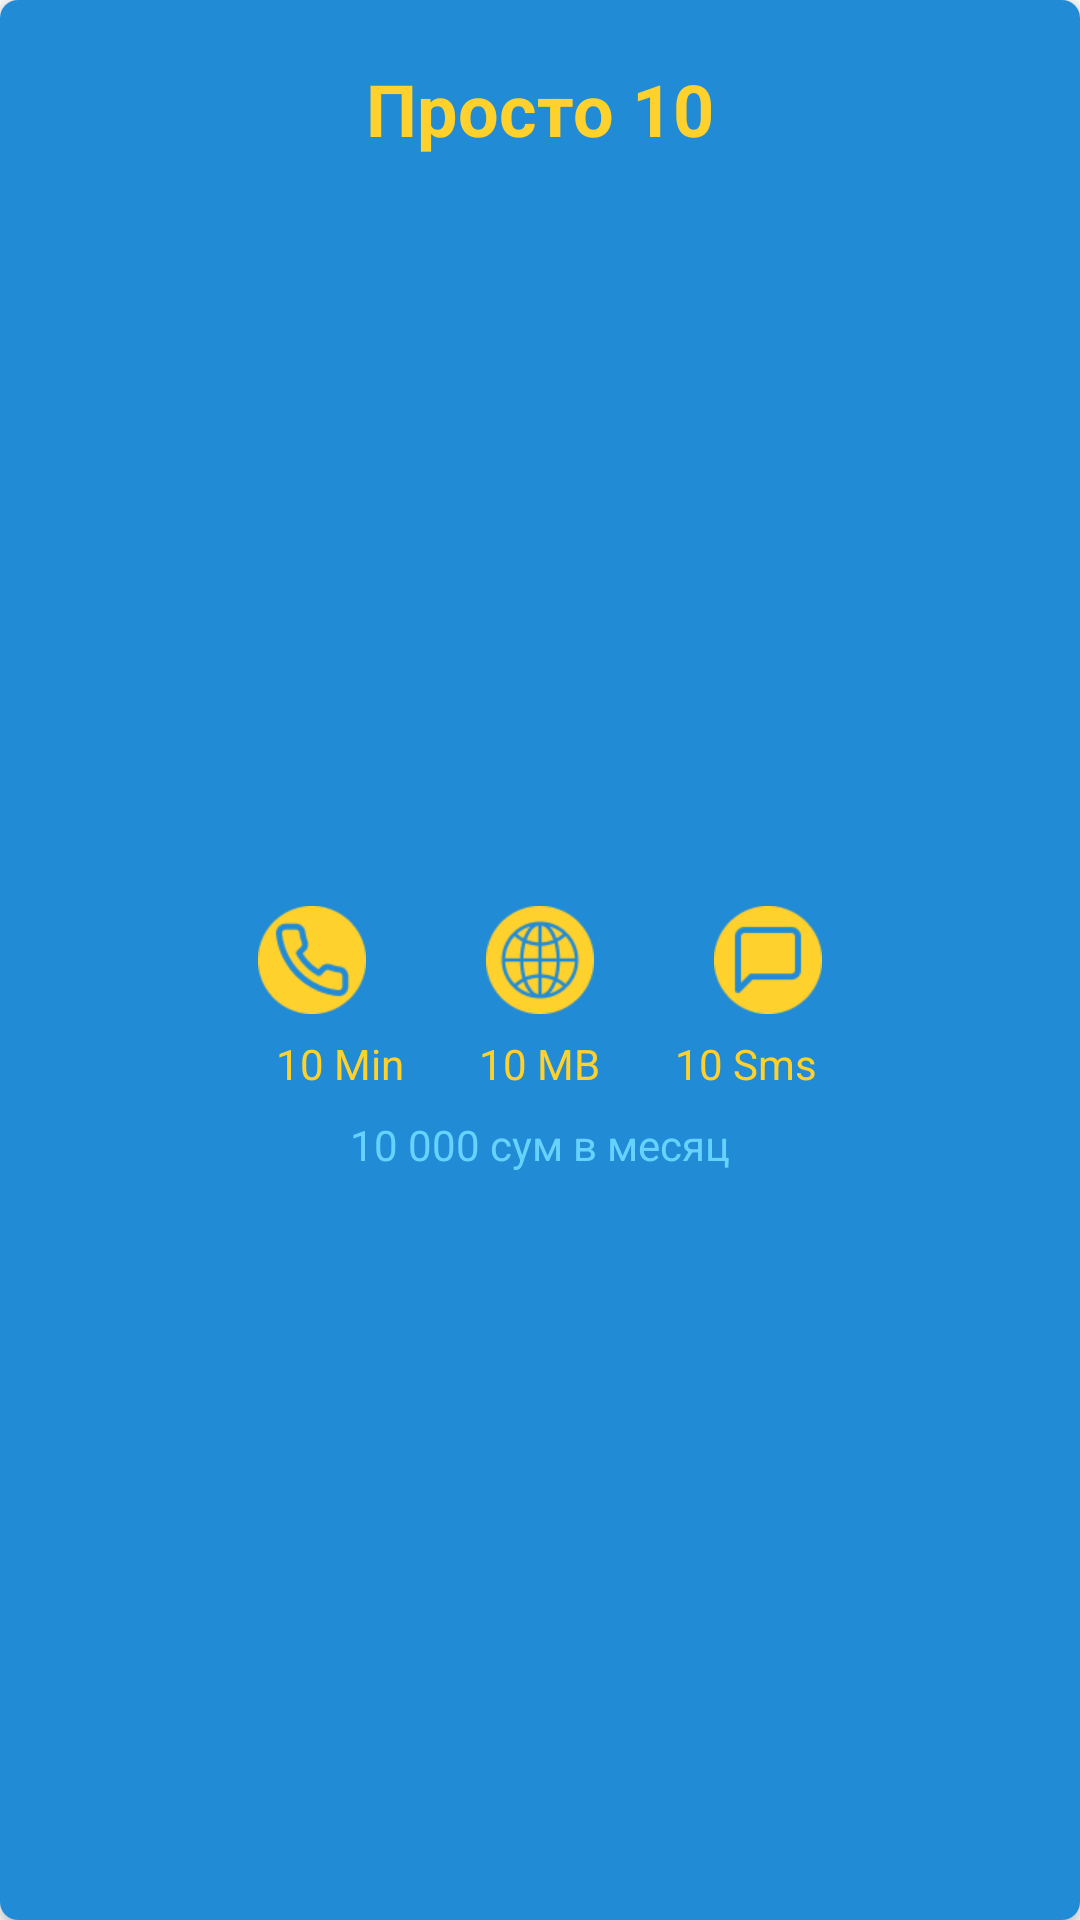

Icon click points for this 1080x1920 phone screenshot, format point (x, y):
call: point (312, 960)
